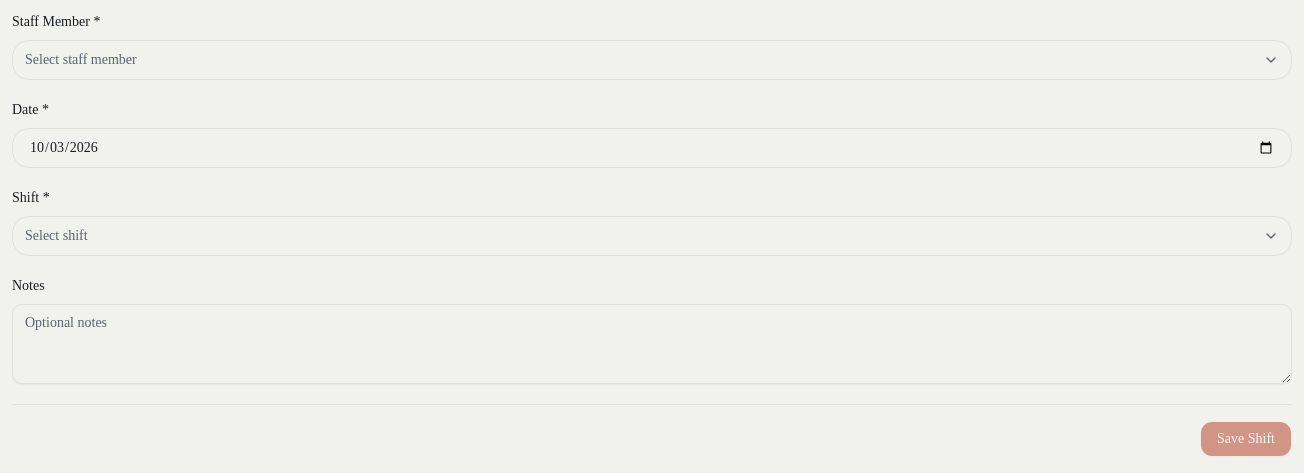
Test: ShiftForm dropdown labels › edit/reschedule shift dropdown also shows readable labels (checked via ShiftForm reuse)
The width and height of the screenshot is (1304, 473).
Click the dropdown labelled "Select shift ▼".
click(56, 236)  # box [12,216,1292,256]
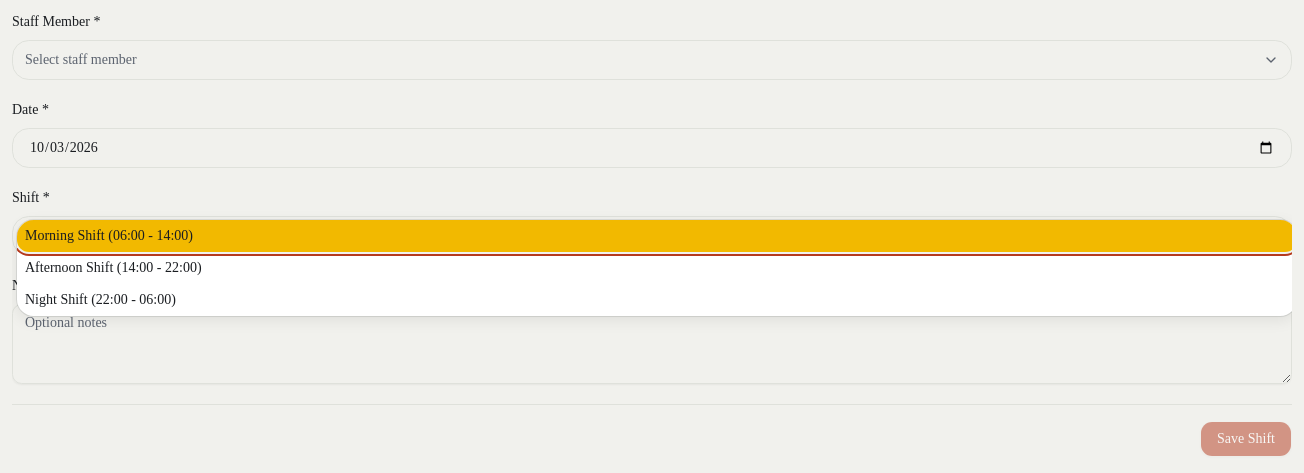
Result: the text "Morning Shift (06:00 - 14:00)" is shown at [25,228,193,243]
